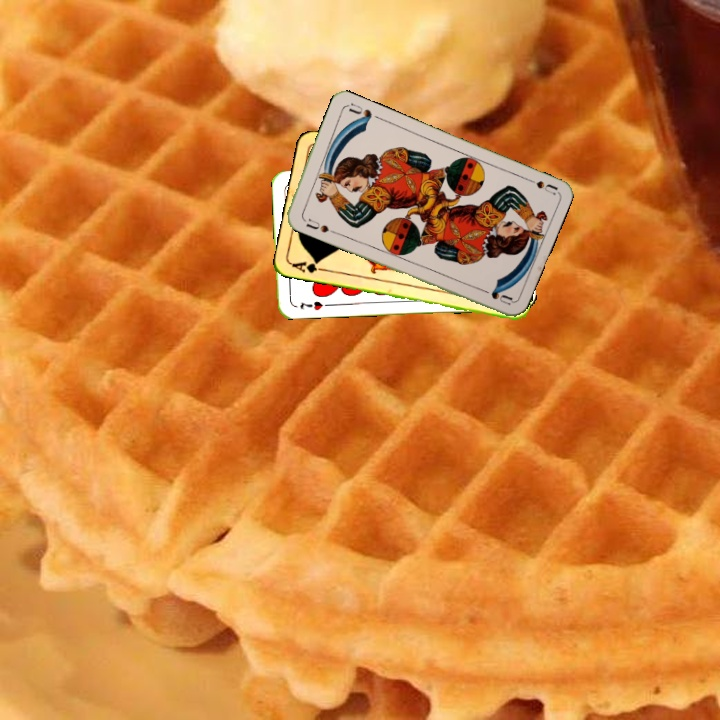GA: (288, 257, 329, 275)
H7: (296, 297, 325, 313)
SU: (519, 173, 559, 196), (302, 215, 337, 236)
